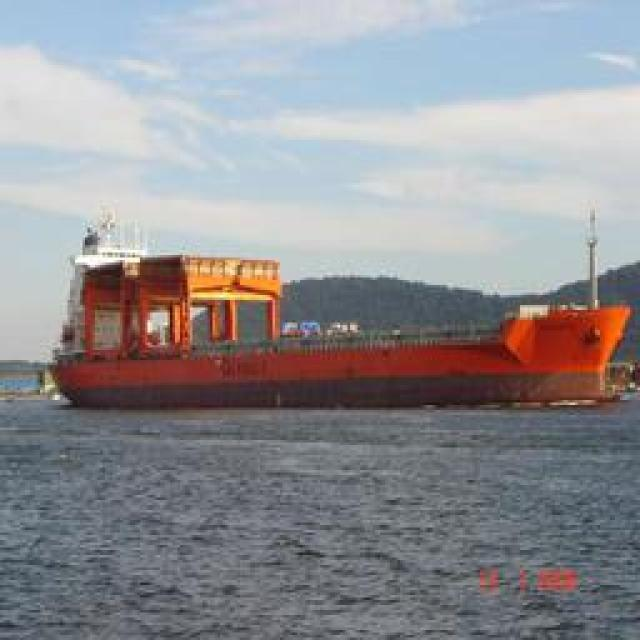CIV_Ship: (58, 232, 628, 412)
